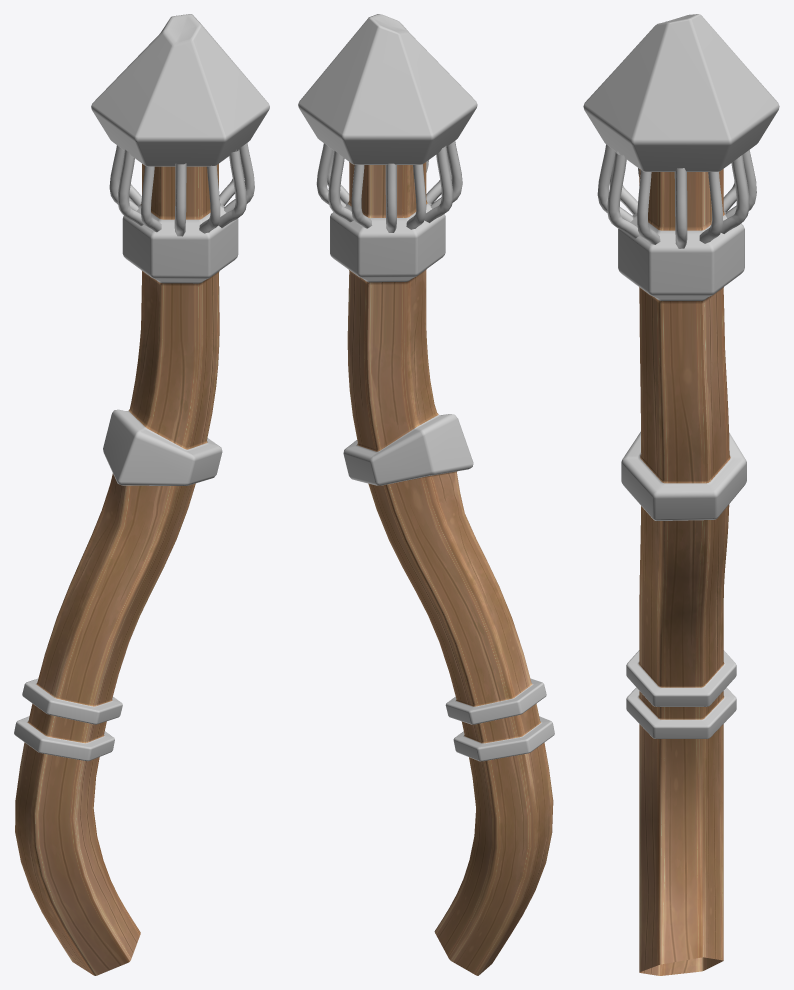
File: SM_Chimney_02.fbx
The picture shows the model from 3 angles, left to right: view 1: azimuth 30°, elevation 25°; view 2: azimuth 150°, elevation 25°; view 3: azimuth 270°, elevation 25°; orthographic projection. The views are drawn at different scales.
Visible parts, largest first — view 1: SM_Chimney_02_LOD0; view 2: SM_Chimney_02_LOD0; view 3: SM_Chimney_02_LOD0.
Boxes of the visible parts, x1,y1,x2,y2 form: SM_Chimney_02_LOD0: [14, 14, 269, 975]; SM_Chimney_02_LOD0: [298, 14, 554, 975]; SM_Chimney_02_LOD0: [583, 14, 779, 975].
Bounding box in the file's own units: 231 × 160 × 915.
